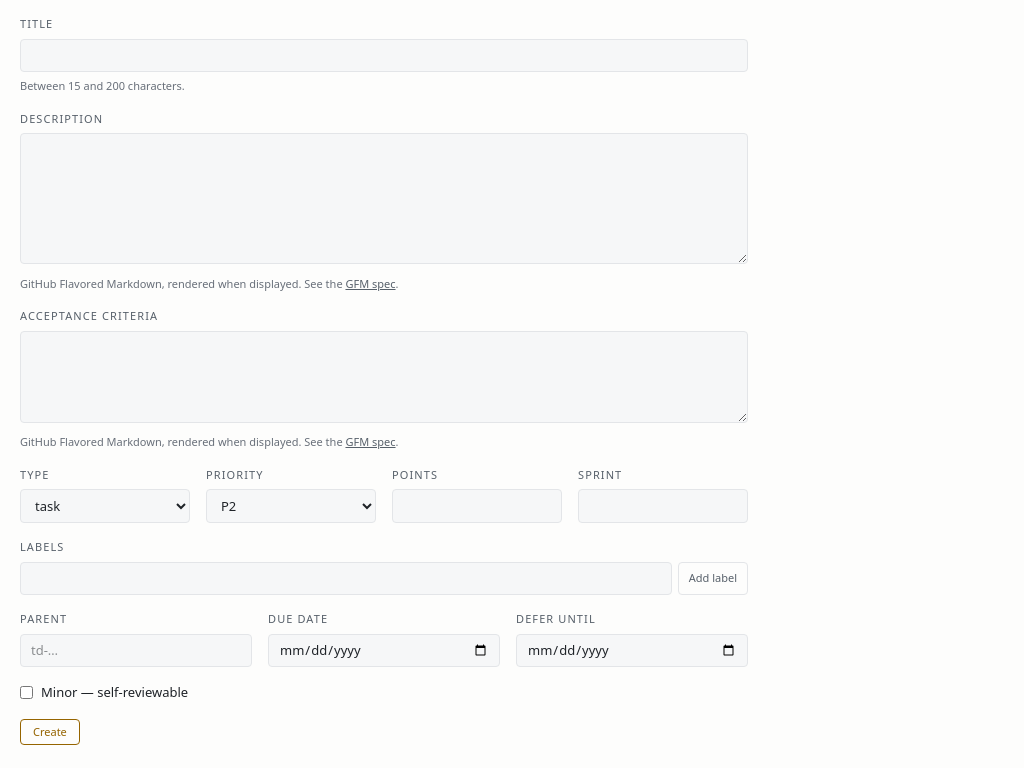
it: IssueForm › submits a short title and shows the server field error
Step 1. Type "ab" into the field labelled "Title" → (384, 55), box [20,38,748,72]
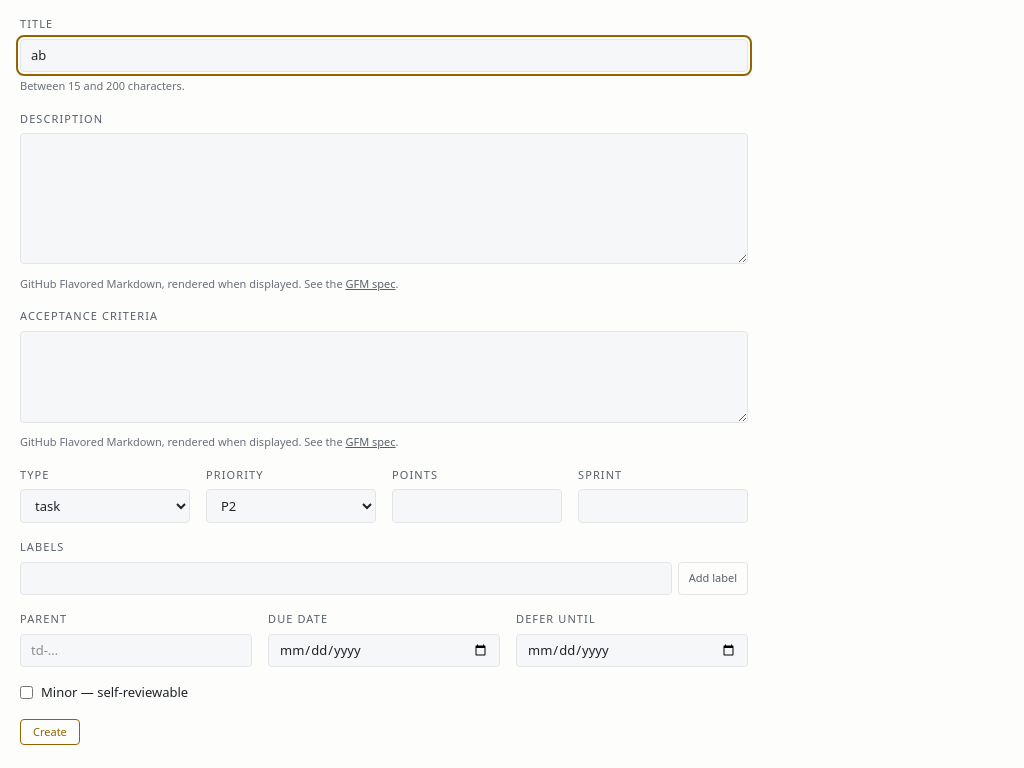
Step 2. Click the button "Create" → (50, 732), box [20,718,80,745]
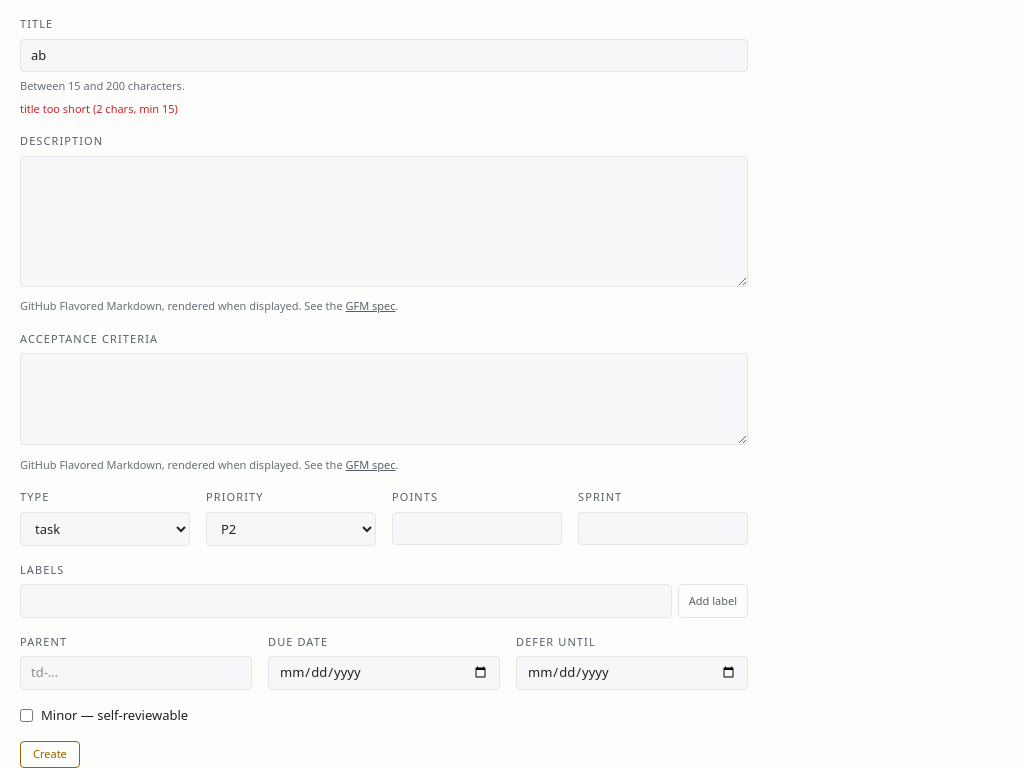
Expected: the text "title too short (2 chars, min 15)" is shown, [20,100,178,116]
